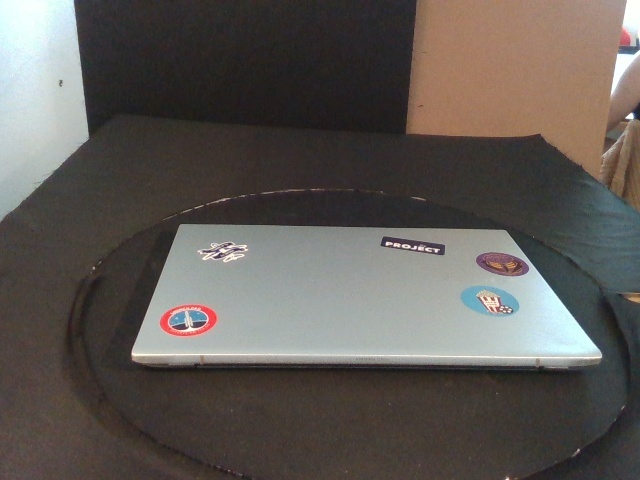laptop: (130, 222, 602, 374)
